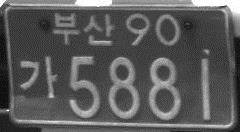0: (155, 13, 181, 48)
1: (199, 48, 214, 123)
5: (68, 55, 101, 119)
8: (107, 55, 141, 120), (148, 56, 182, 121)
9: (124, 11, 150, 47)
가: (18, 54, 58, 100)
부산_O: (50, 10, 116, 47)
